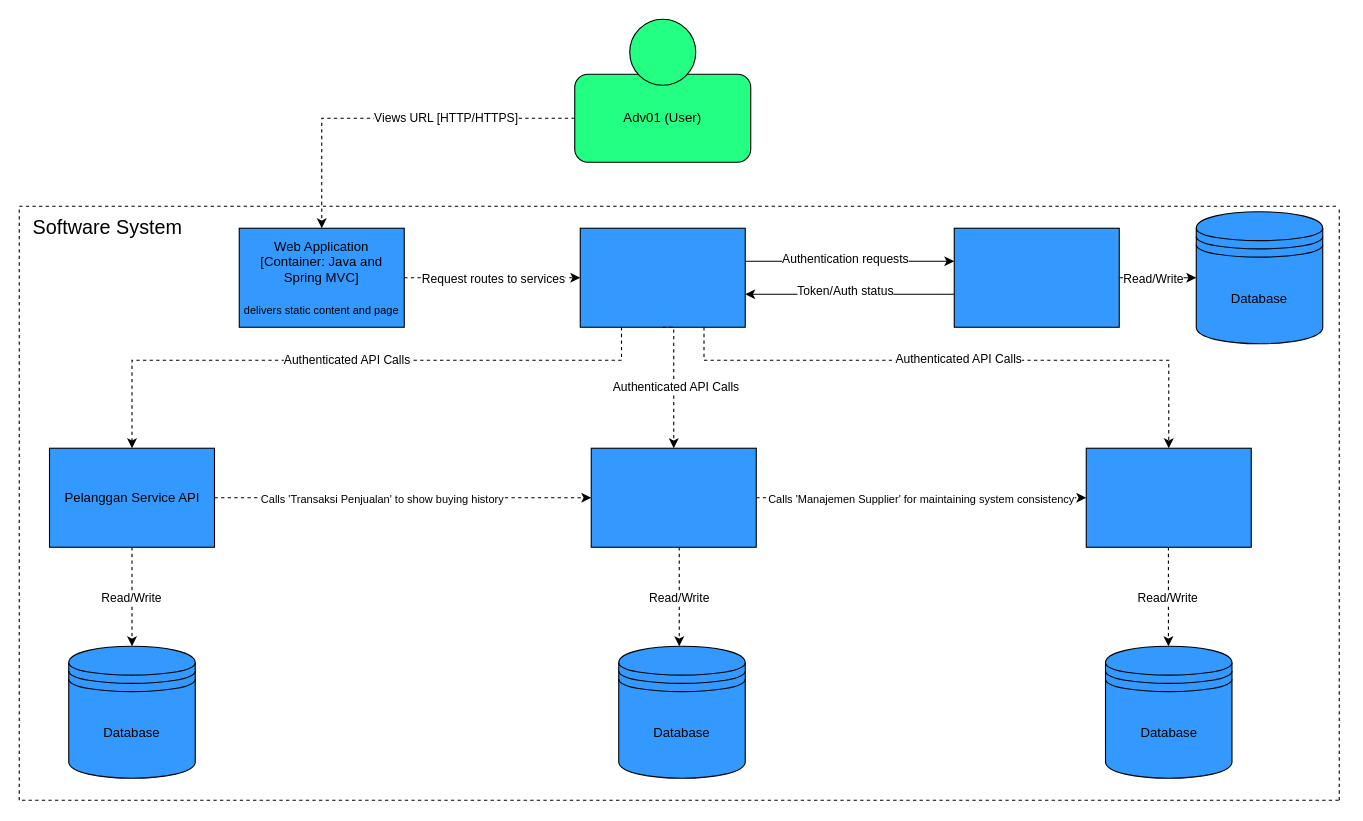
Some shapes in this 1363 by 821 pixel diagram are drawn without their labels. Here are the shapes that lost their labels. From the top down, the box of each, then its label:
(579, 227, 745, 327): API Gateway
(953, 227, 1119, 327): Authentication
(590, 447, 756, 547): Product Service API
(1085, 447, 1251, 547): Supplier Service API
